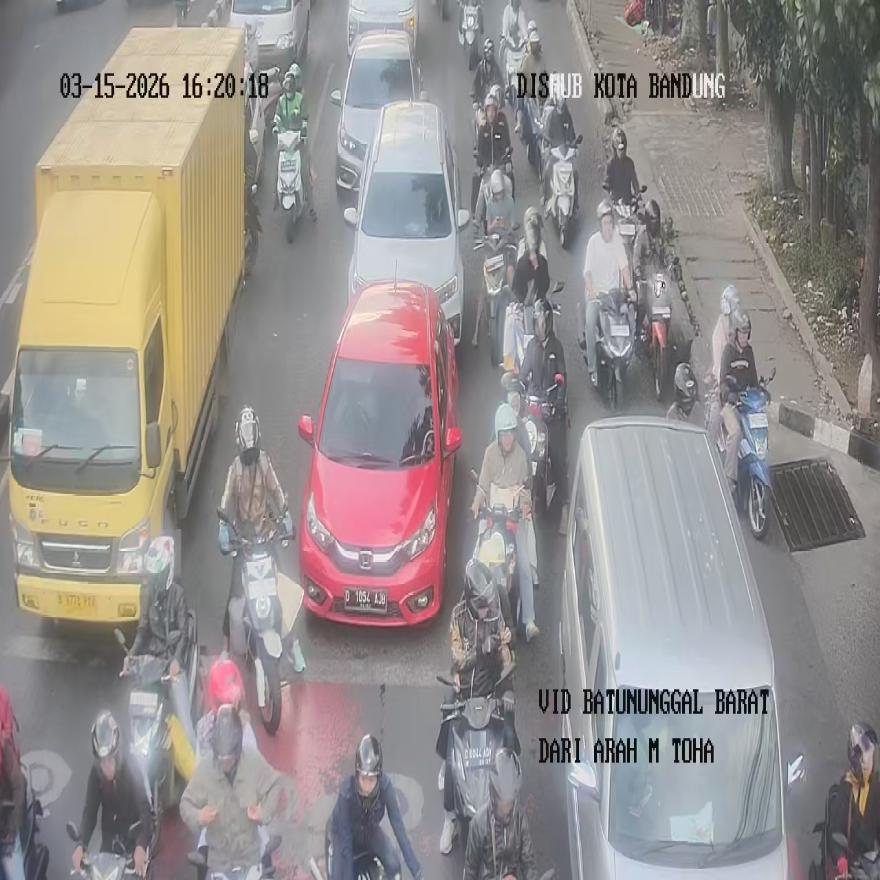Mobil: (558, 416, 805, 877), (297, 278, 461, 624), (343, 99, 469, 346), (332, 28, 424, 191), (228, 0, 310, 73), (345, 0, 416, 57)
Truk ringan: (5, 27, 248, 629)
